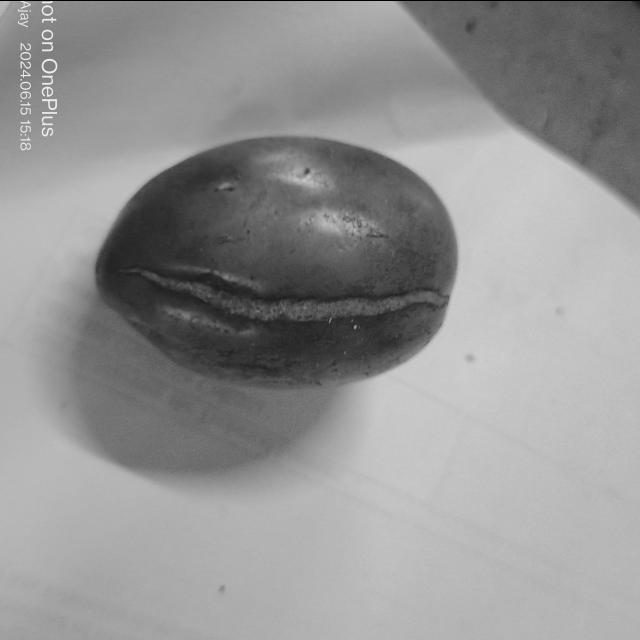tomato_cracking: (116, 268, 457, 322)
